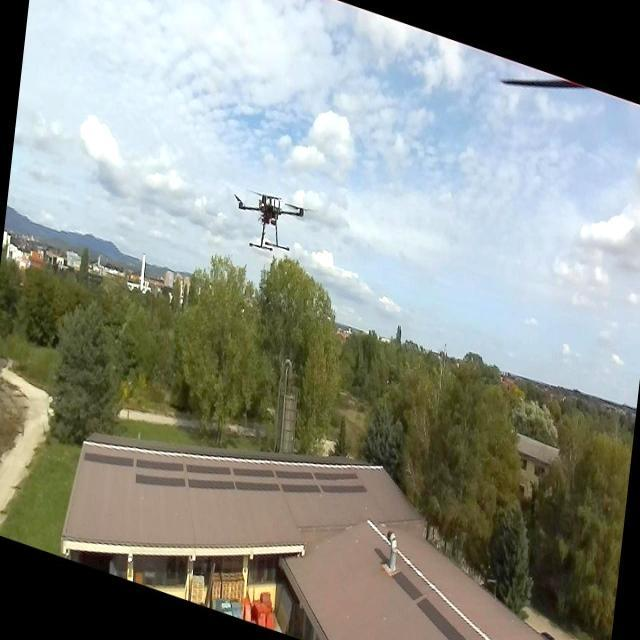drone: (230, 178, 310, 264)
